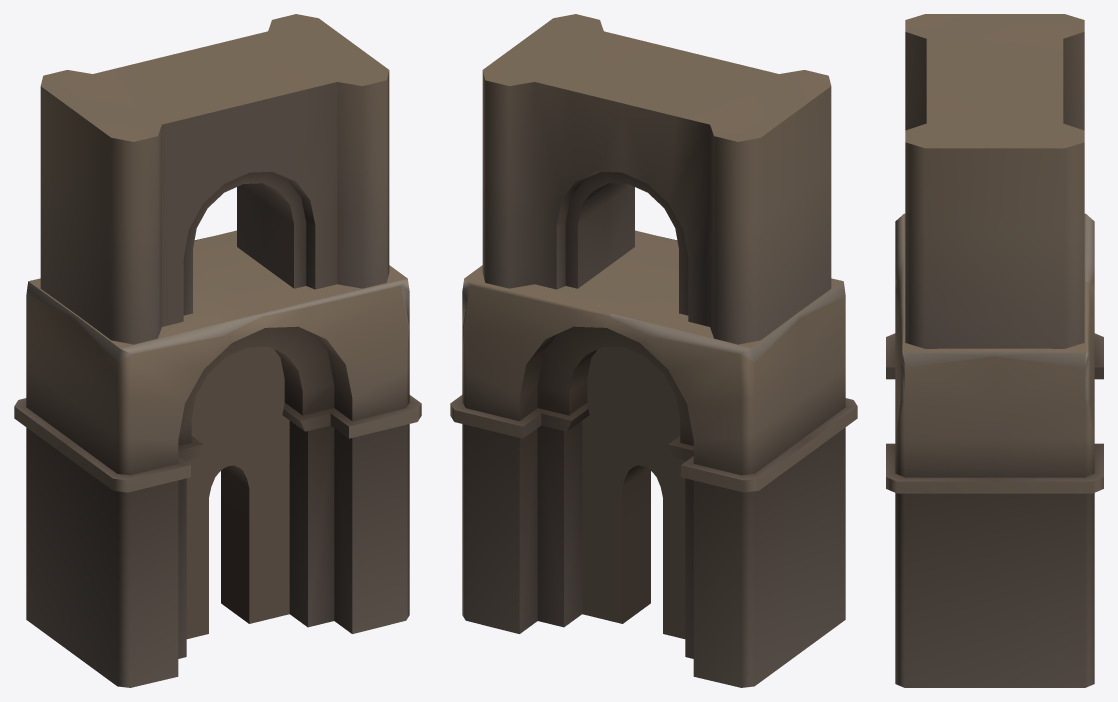
File: buildings-ruins-cathedralruins_v12.glb
The picture shows the model from 3 angles, left to right: view 1: azimuth 30°, elevation 25°; view 2: azimuth 150°, elevation 25°; view 3: azimuth 270°, elevation 25°; orthographic projection.
Visible parts, largest first — view 1: CathedralRuins_v12; view 2: CathedralRuins_v12; view 3: CathedralRuins_v12.
Part boxes in pixels (x1=…): CathedralRuins_v12: x1=14, y1=14, x2=421, y2=687; CathedralRuins_v12: x1=450, y1=14, x2=857, y2=687; CathedralRuins_v12: x1=886, y1=14, x2=1103, y2=687.
Size of the model in its own units: 10.2 by 17.08 by 6.3.
